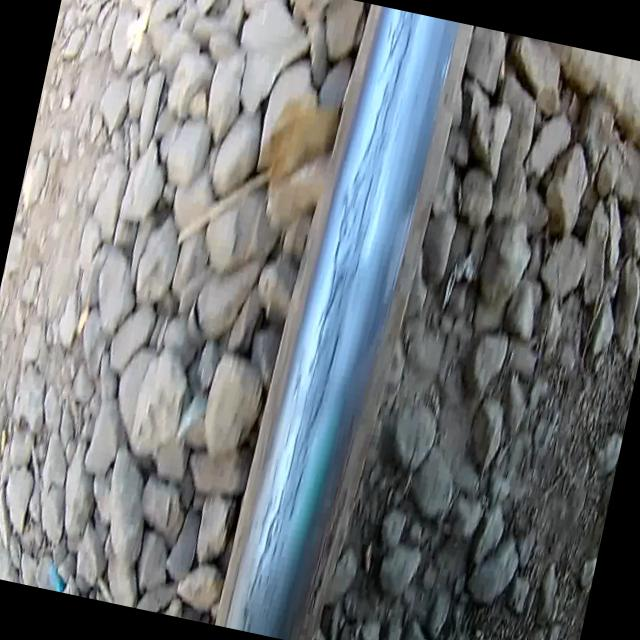Cracks: (233, 2, 420, 640)
